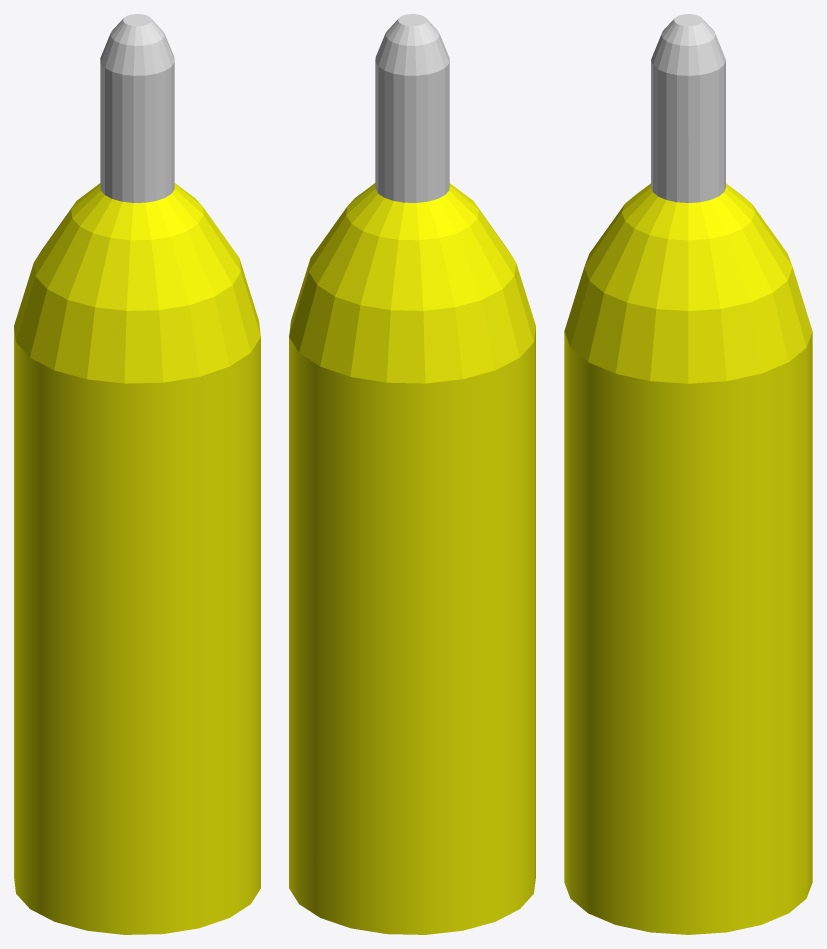
The model's file is Oxygen Tank.fbx.
The picture shows the model from 3 angles, left to right: view 1: azimuth 30°, elevation 25°; view 2: azimuth 150°, elevation 25°; view 3: azimuth 270°, elevation 25°; orthographic projection.
Visible parts, largest first — view 1: oxygen_tank1; view 2: oxygen_tank1; view 3: oxygen_tank1.
Part boxes in pixels (x1,y1,x2,y2): oxygen_tank1: (14,14,260,934); oxygen_tank1: (289,14,535,934); oxygen_tank1: (564,14,812,934).
Size of the model in its own units: 2 by 7.67 by 2.
